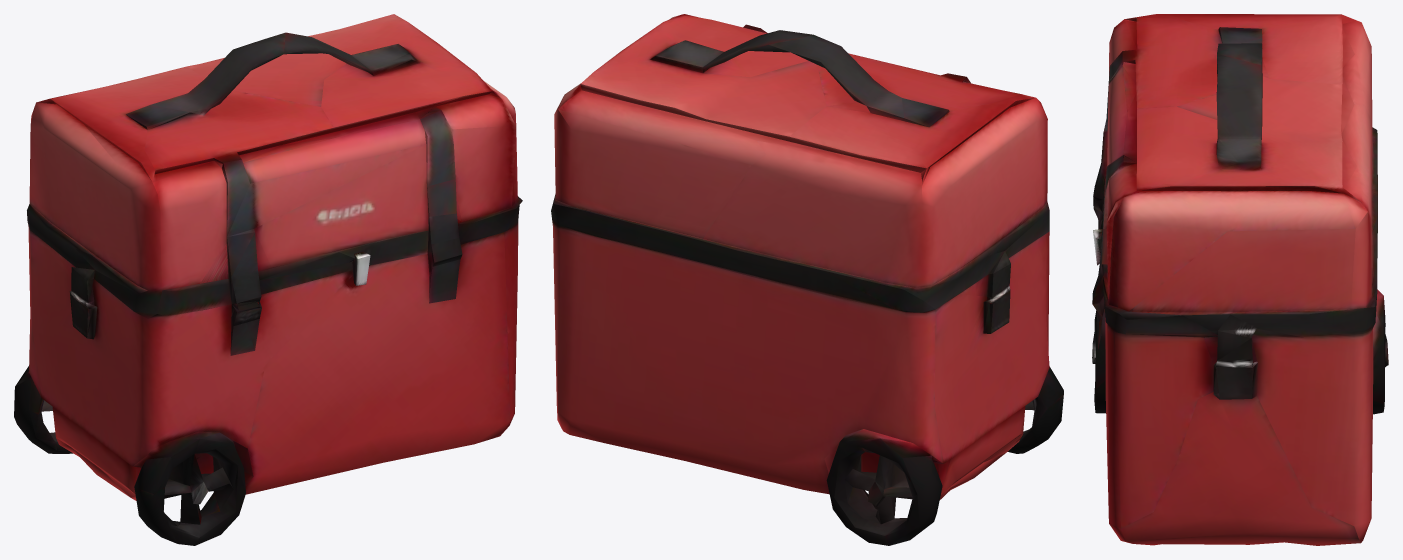
The model's file is deliveryBoxV2.glb.
3 renders of one model, left to right at view 1: azimuth 30°, elevation 25°; view 2: azimuth 150°, elevation 25°; view 3: azimuth 270°, elevation 25°, orthographic. The views are drawn at different scales.
Visible parts, largest first — view 1: model; view 2: model; view 3: model.
Boxes of the visible parts, x1=… form: model: x1=14, y1=14, x2=522, y2=545; model: x1=551, y1=14, x2=1063, y2=545; model: x1=1092, y1=14, x2=1388, y2=545.
Bounding box in the file's own units: 1.88 × 1.89 × 1.18.
1 material, 1 textured.
